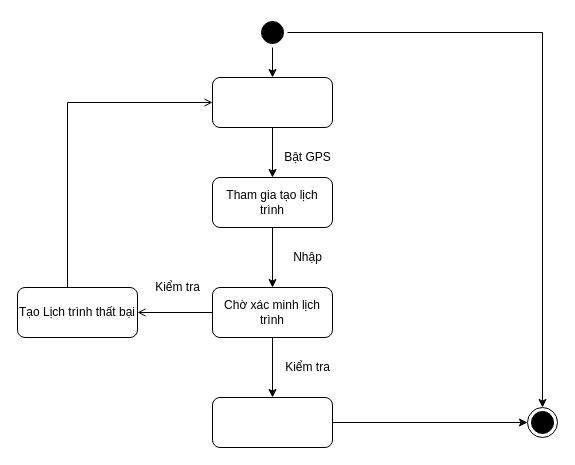
This 575x465 diagram has some shape labels left out. The centre of each missing label's shape, as x and y in pixels:
"Chưa có lịch trình" belongs at (x=272, y=102).
"Tạo lịch trình thành công" belongs at (x=272, y=422).
